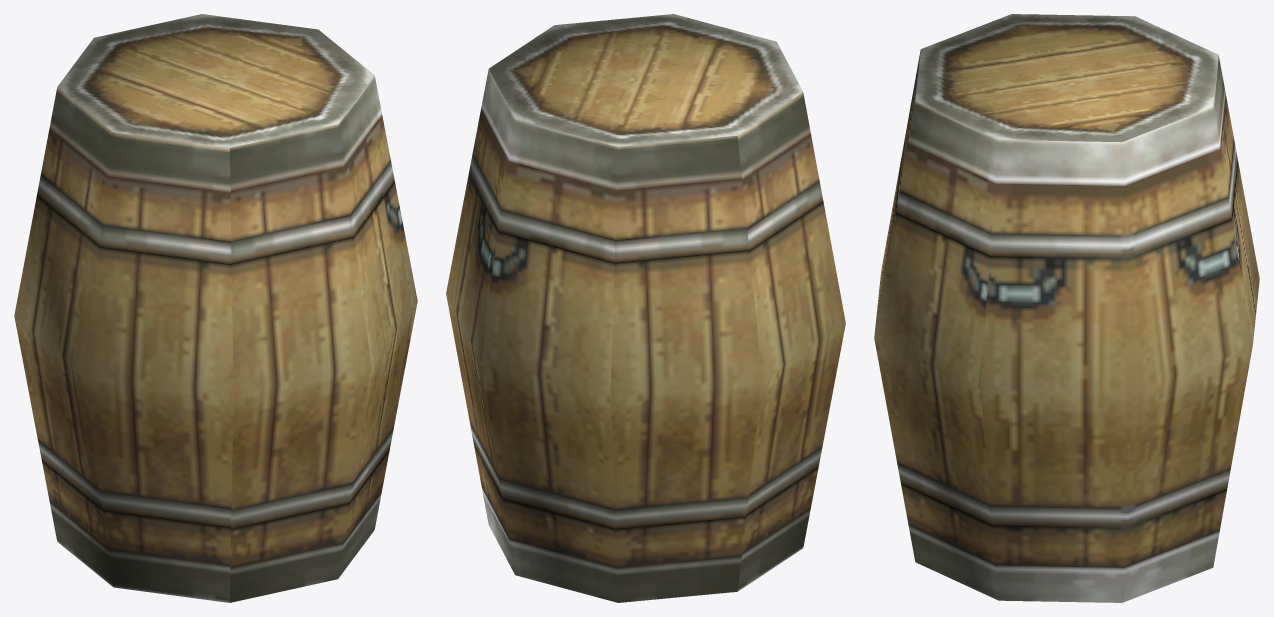
The model's file is nml-bd107.glb.
3 views of the same model, side by side, from view 1: azimuth 30°, elevation 25°; view 2: azimuth 150°, elevation 25°; view 3: azimuth 270°, elevation 25° (orthographic).
Parts seen in each view (by area): view 1: geom_node_0; view 2: geom_node_0; view 3: geom_node_0.
Part boxes in pixels (<box>): geom_node_0: <box>14,14,417,602</box>; geom_node_0: <box>446,14,845,602</box>; geom_node_0: <box>874,14,1259,602</box>.
Size of the model in its own units: 1.13 by 1.49 by 1.13.
Materials: 1 (1 with a texture image).
